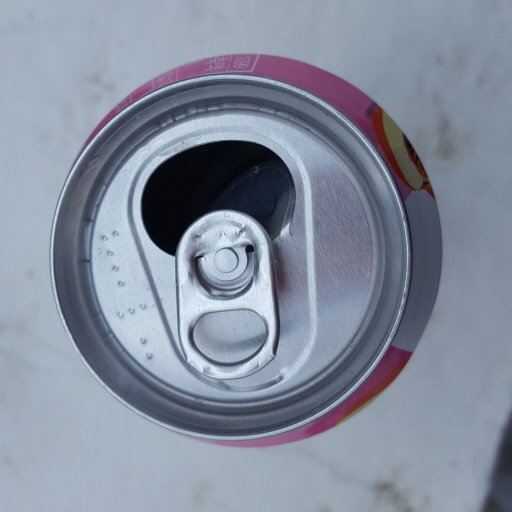Metal_0: (50, 54, 445, 452)
